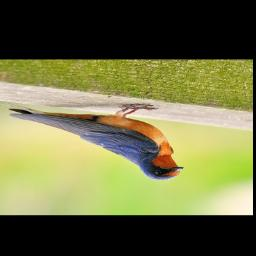Swallow: (7, 99, 188, 183)
